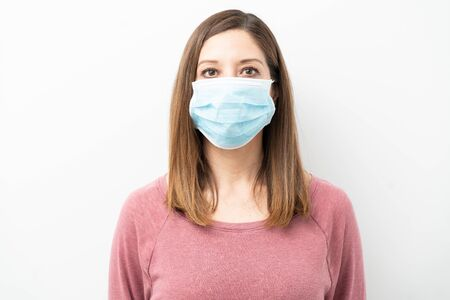with_mask: (192, 53, 275, 141)
